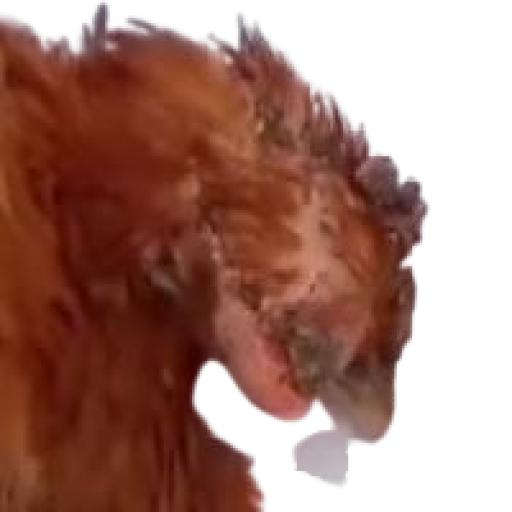disease: (288, 111, 436, 271)
